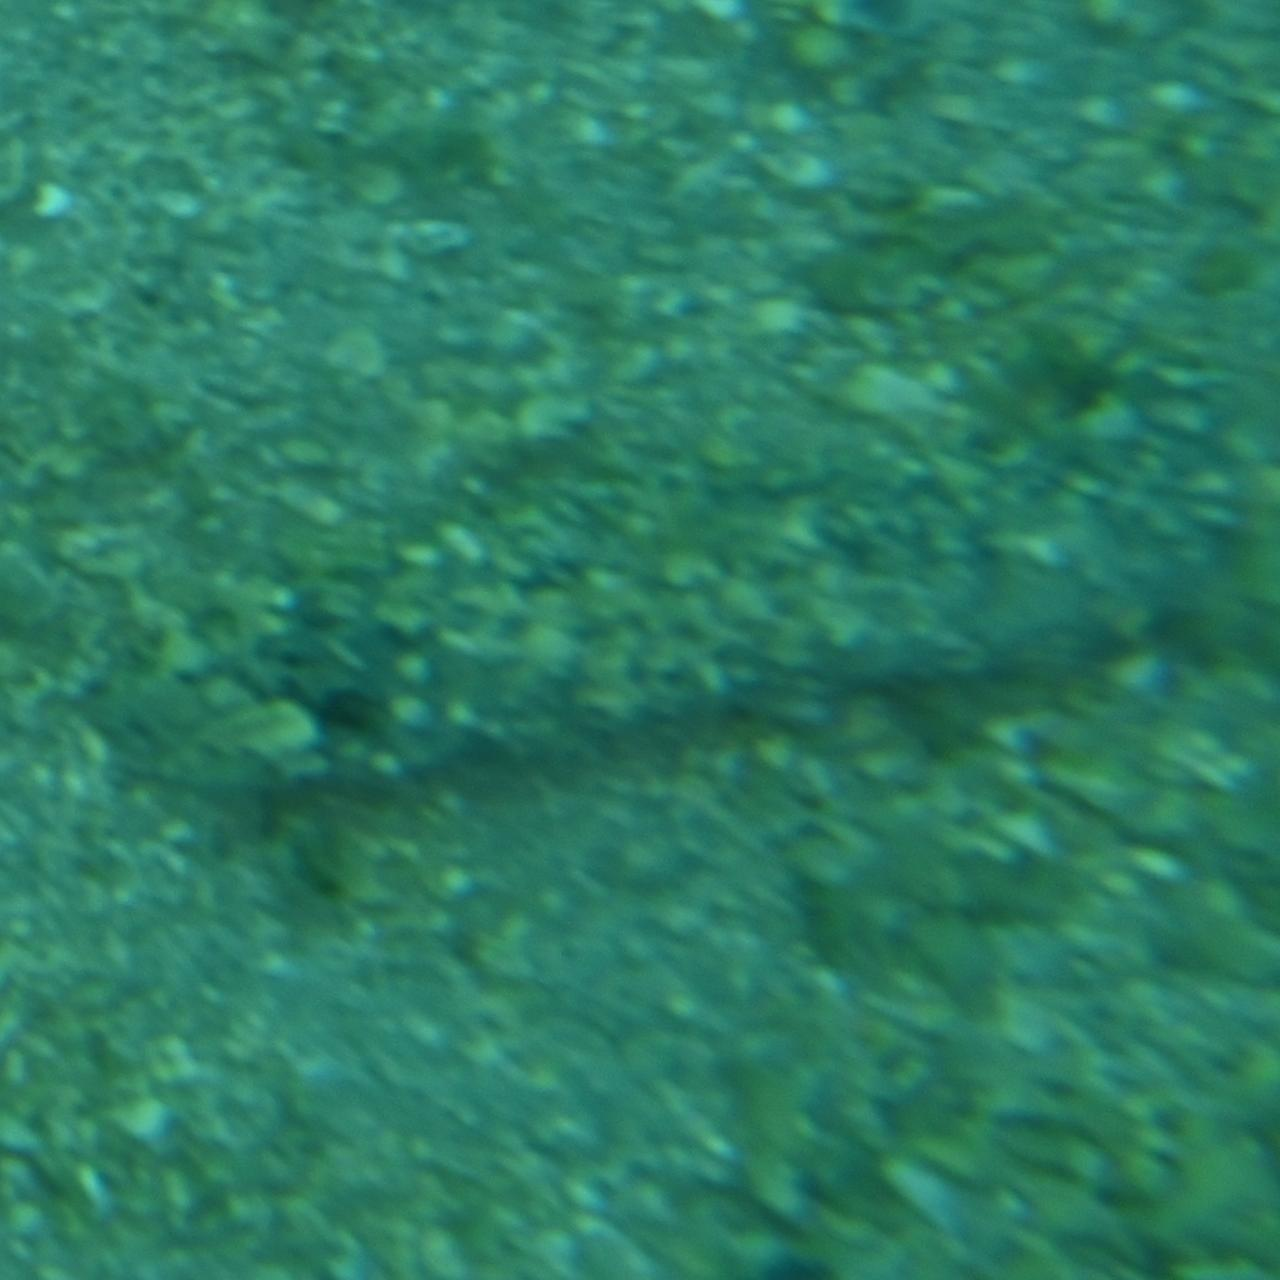Holothuria tubulosa: (203, 451, 1251, 829)
